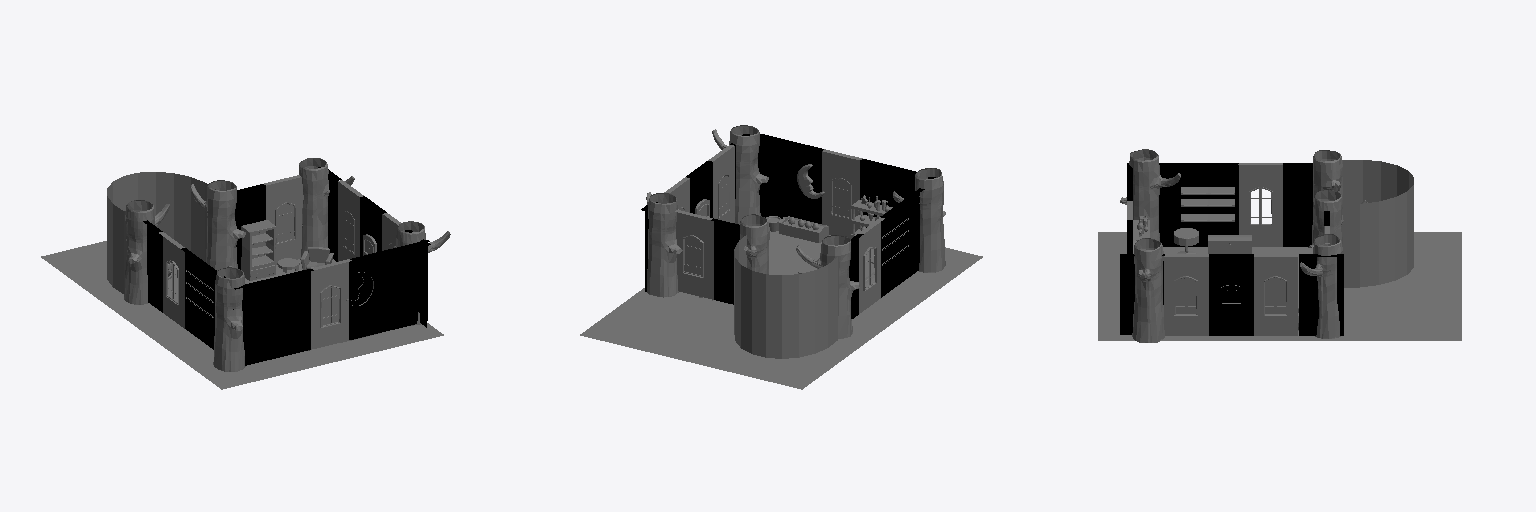
Rendered from SM_AllMESHES_OBJ.obj.
3 views of the same model, side by side, from view 1: azimuth 30°, elevation 25°; view 2: azimuth 150°, elevation 25°; view 3: azimuth 270°, elevation 25° (orthographic).
Size of the model in its own units: 1189 by 507 by 1496.